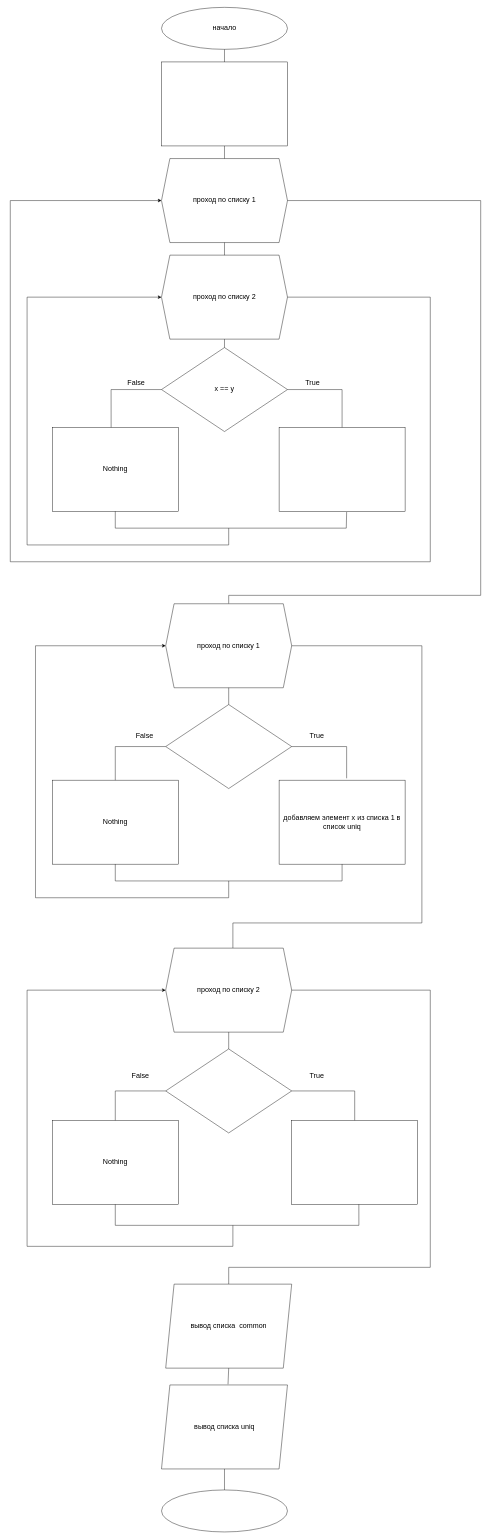
Some shapes in this 488 by 1539 pixel diagram are drawn without their labels. Each missing label, with the box of its shape:
добавляем текущий элемент из любого списка в новый список common: (279, 427, 405, 511)
добавляем элемент х из списка 2 в список uniq: (291, 1120, 418, 1204)
конец: (161, 1490, 287, 1532)
создание списков list1, list2, common, uniq: (161, 62, 287, 146)
элемент х не в списке 1: (165, 1049, 292, 1133)
элемент х не в списке 2: (165, 704, 292, 789)
